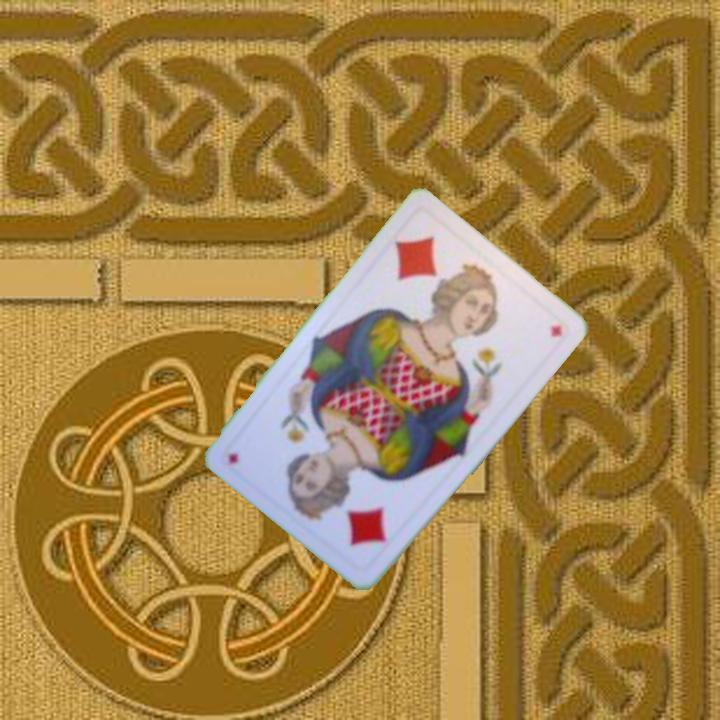d_q.png: (291, 448, 420, 576), (367, 206, 496, 333)
